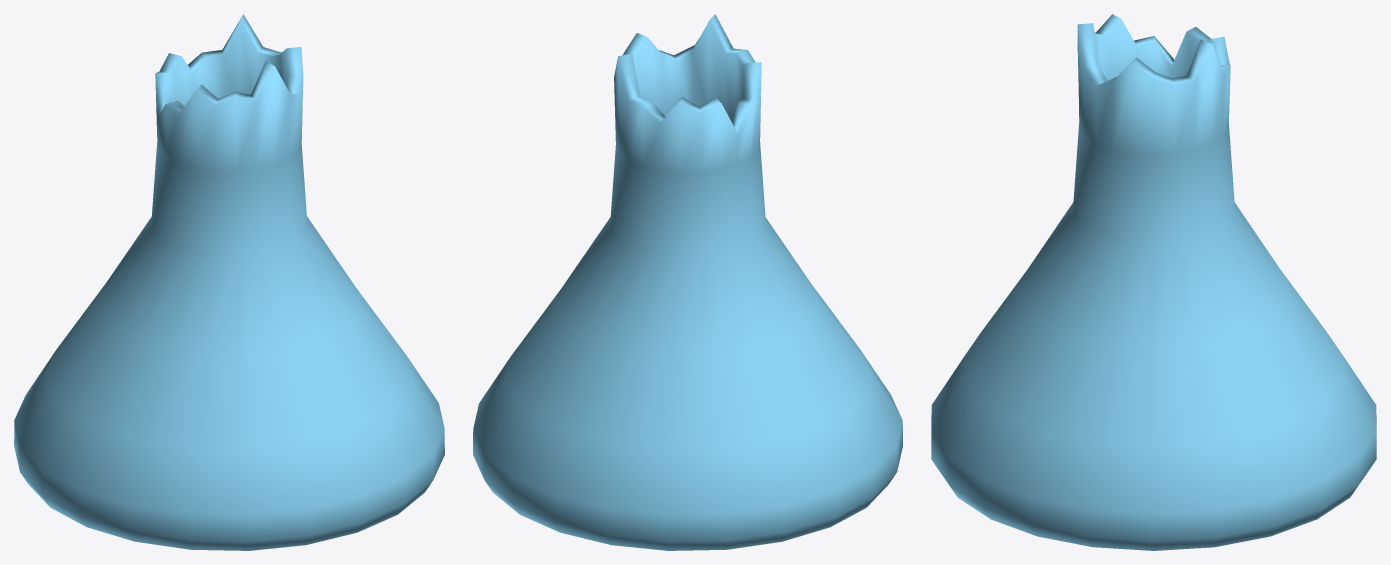
File: BrokenFlaskTriangular.fbx
3 renders of one model, left to right at view 1: azimuth 30°, elevation 25°; view 2: azimuth 150°, elevation 25°; view 3: azimuth 270°, elevation 25°, orthographic. The views are drawn at different scales.
Parts seen in each view (by area): view 1: BrokenFlaskTriangular; view 2: BrokenFlaskTriangular; view 3: BrokenFlaskTriangular.
Part boxes in pixels (bbox=[...]): BrokenFlaskTriangular: bbox=[14, 14, 444, 550]; BrokenFlaskTriangular: bbox=[473, 14, 902, 550]; BrokenFlaskTriangular: bbox=[931, 14, 1376, 550].
Bounding box in the file's own units: 28.54 × 31.65 × 28.25.
